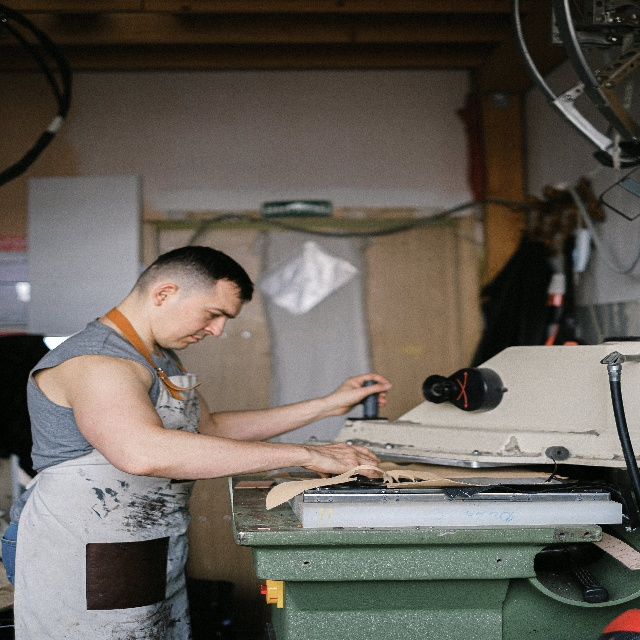Sin_guantes: (302, 441, 382, 480), (331, 372, 393, 418)
